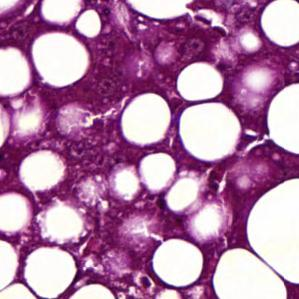steatosis: (175, 103, 247, 160), (28, 33, 91, 88), (151, 235, 202, 288)
